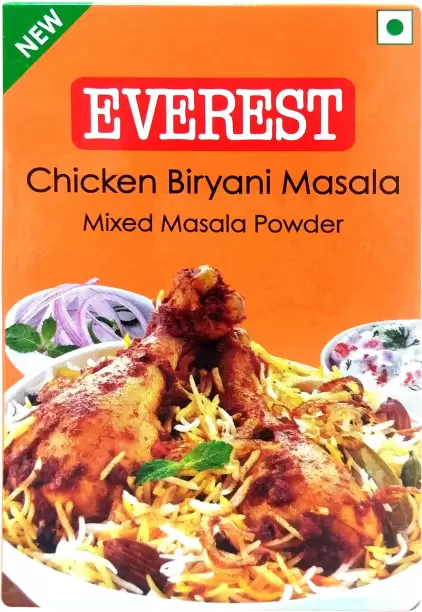Biryani: (7, 7, 422, 607)
